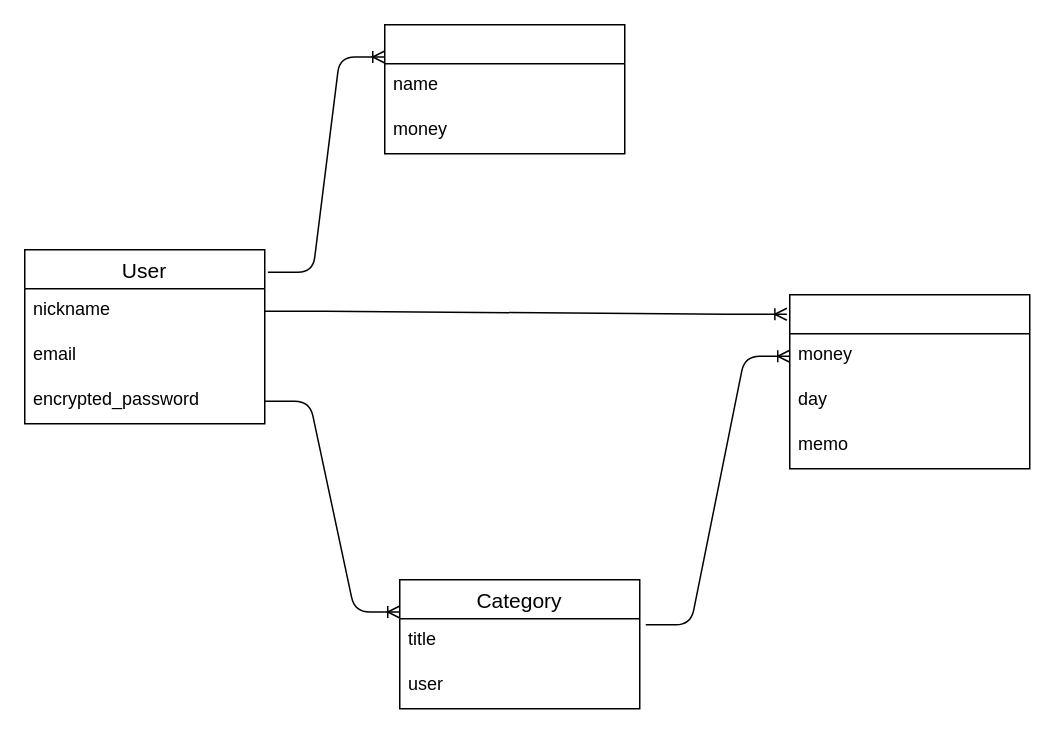
Image size: 1055x734. Some labels were removed from this diagram. The box of each missing label's shape, as (x1, y1, x2, y2) in pixels:
Fix: (383, 23, 625, 154)
Spend: (788, 293, 1030, 469)
